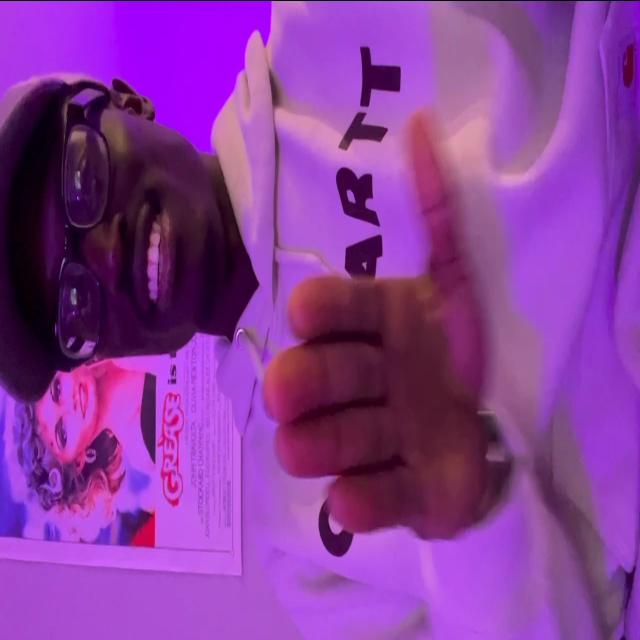Paper: (259, 116, 491, 532)
